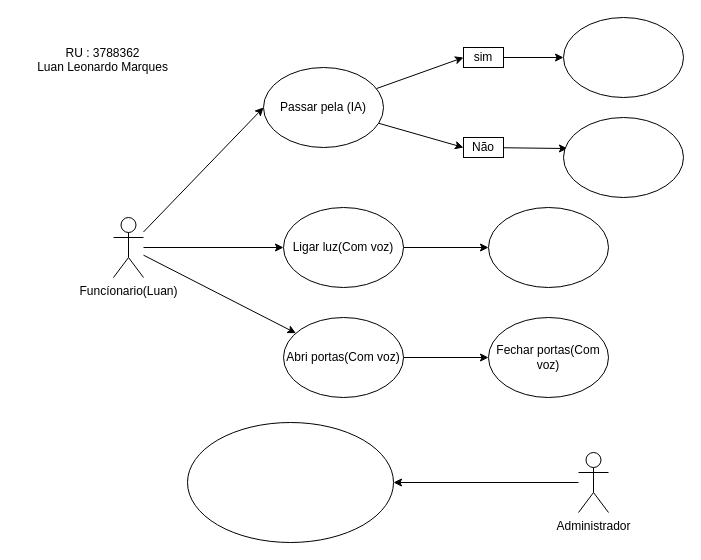
The diagram is 701 pixels wide and 560 high, and some of its shapes have lost their labels. The shapes that lost their labels are listed below. From the top down, each one's centre as x and y in pixels, then its label:
(623,57): Sistema liberado
(623,157): Sistema negado
(548,247): Desligar a luz(Com voz)
(290,482): Cadastra Funcionário(Luan) Para passar pela Inteligência artificial
